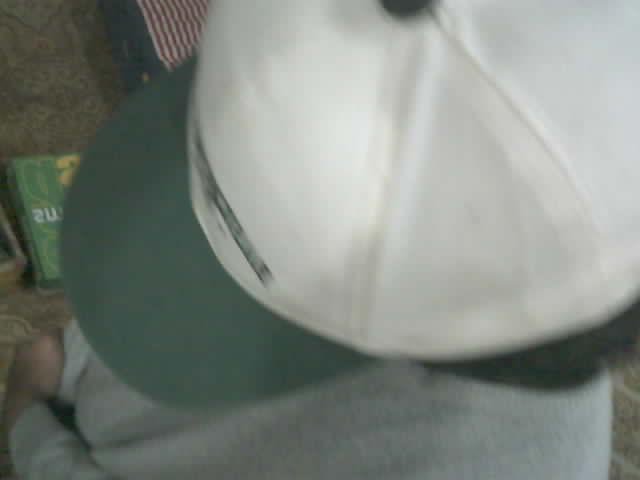cap: (58, 0, 639, 412)
